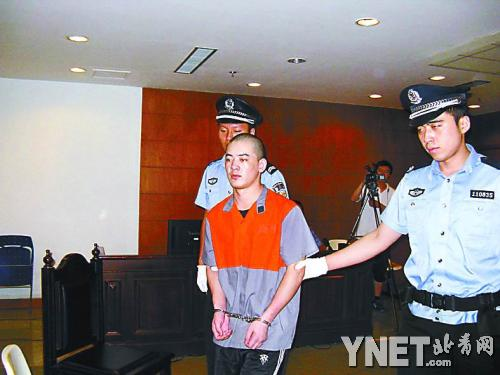other: (207, 132, 323, 372)
